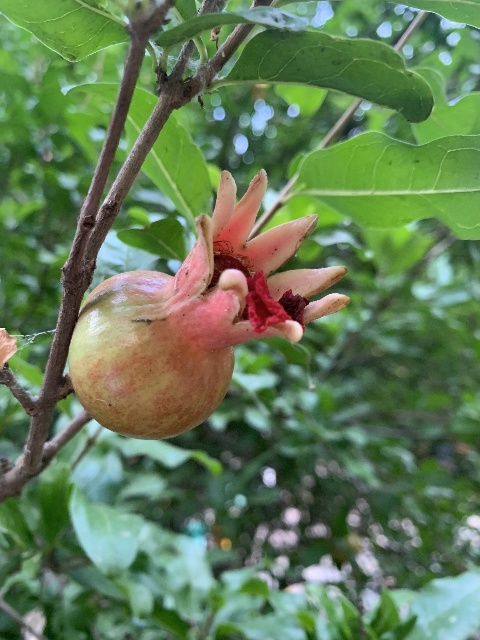early-fruit: (69, 162, 349, 440)
